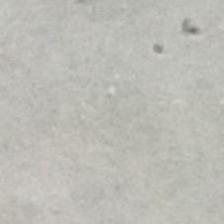Non_Crack: (18, 68, 224, 208)
